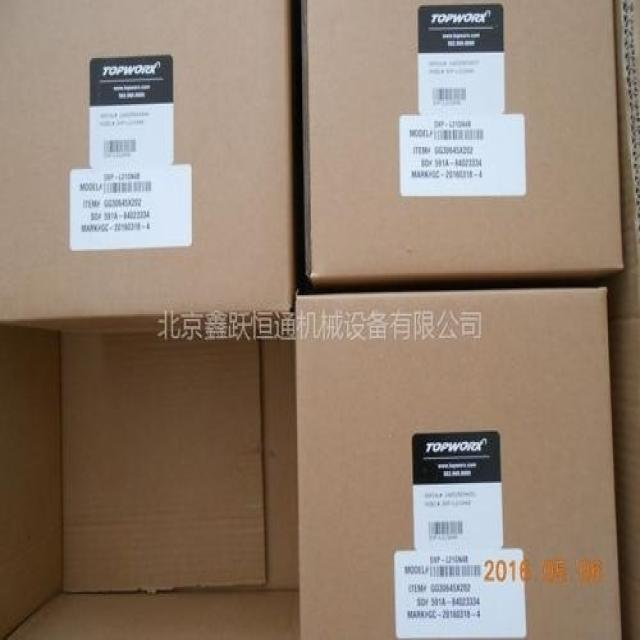box: (296, 288, 621, 638), (0, 2, 294, 342), (299, 3, 625, 290)
